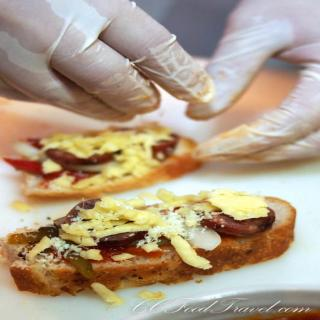Bread: (4, 192, 289, 290), (20, 138, 204, 196)
